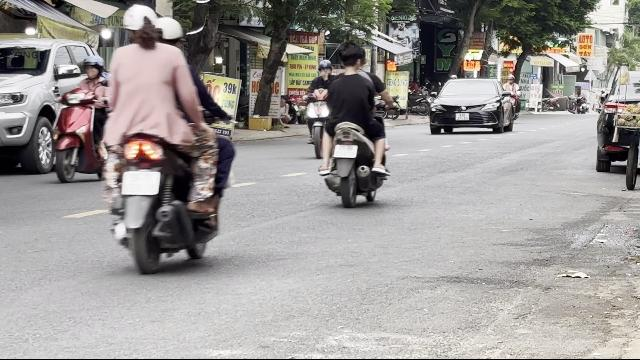helmet: (121, 4, 163, 46), (158, 16, 184, 48), (80, 54, 104, 78)
licenseplate: (122, 170, 158, 194), (332, 144, 356, 156)
motorcyclist: (96, 4, 238, 272), (315, 42, 393, 206), (48, 52, 110, 184)
nohelmet: (338, 42, 366, 72)
